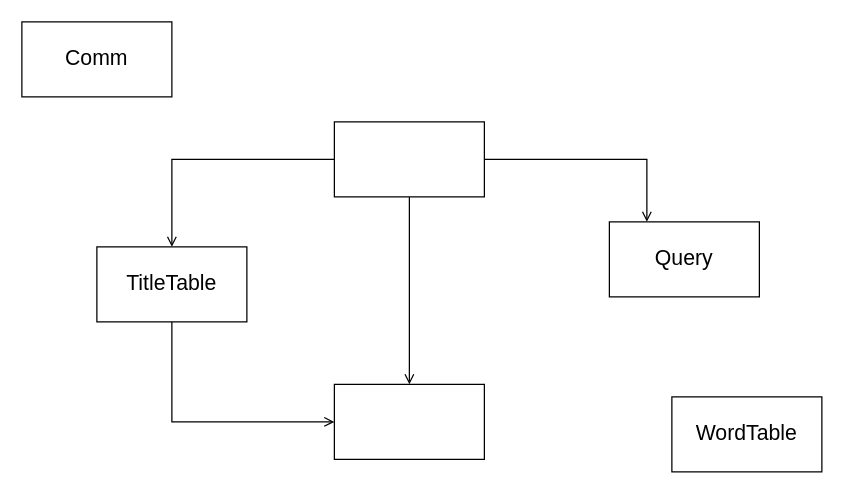
This 844x494 diagram has some shape labels left out. The shapes that lost their labels are listed below. From the top down, each one's box as (x1, y1, x2, y2) in pixels, then its label:
(333, 121, 484, 197): Engine
(333, 383, 484, 459): Doc
